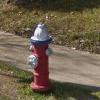Hydrant: (23, 18, 63, 96)
